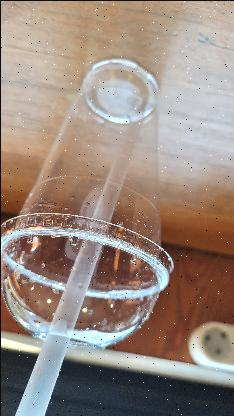Others: (0, 57, 171, 351), (20, 110, 138, 416), (0, 211, 171, 350)
